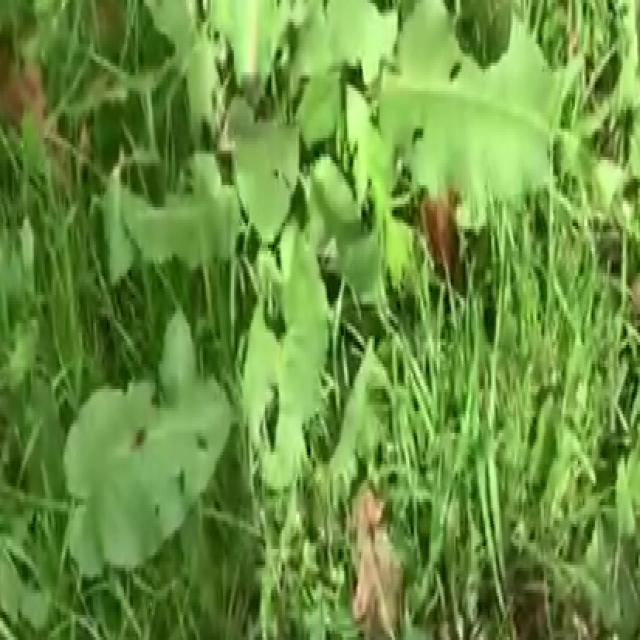organic waste: (71, 0, 561, 637)
